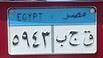3: (41, 30, 51, 48)
4: (31, 30, 40, 48)
5: (10, 34, 20, 47)
9: (21, 30, 31, 48)
baa: (55, 33, 67, 48)
jeem: (68, 29, 80, 48)
qaaf: (81, 29, 94, 48)
